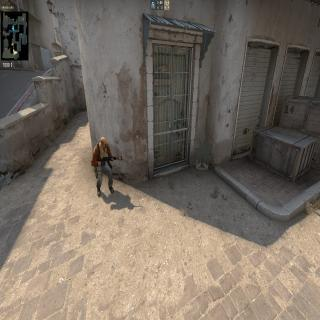T-Head: (100, 135, 108, 153)
